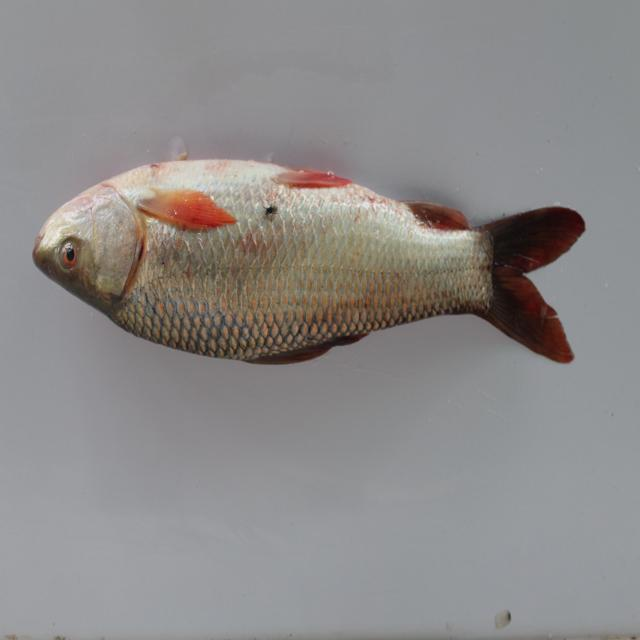Rohu: (28, 141, 596, 369)
